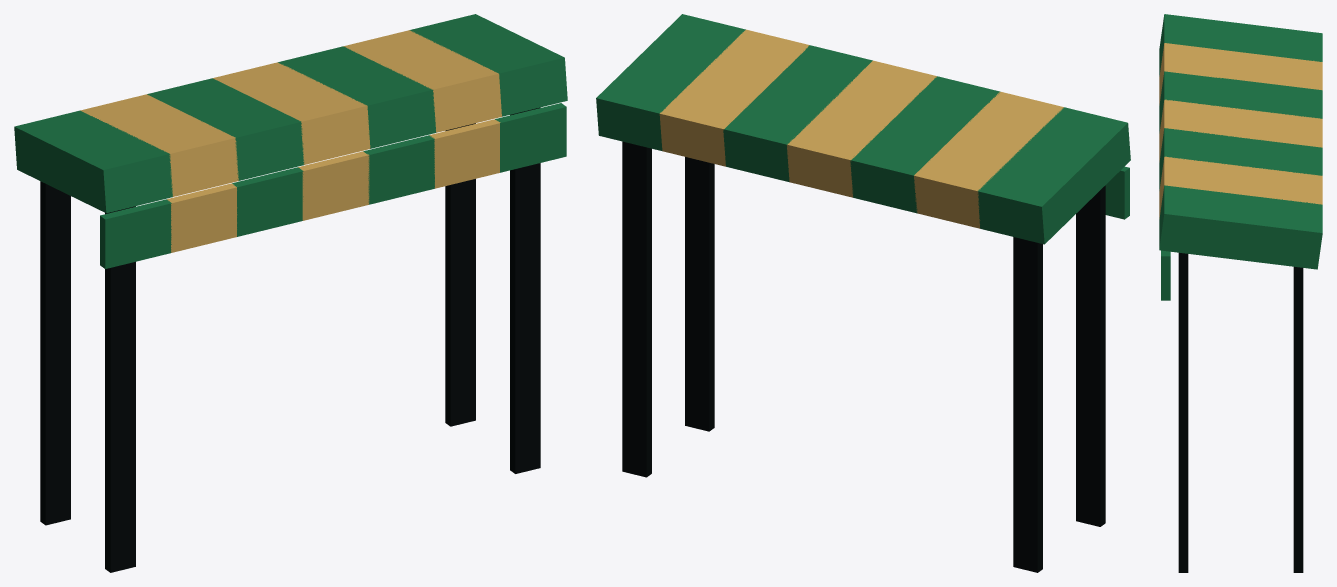
Rendered from street_awning.fbx.
3 renders of one model, left to right at view 1: azimuth 30°, elevation 25°; view 2: azimuth 150°, elevation 25°; view 3: azimuth 270°, elevation 25°, orthographic. The views are drawn at different scales.
Parts seen in each view (by area): view 1: Part_-1, Part_0, Part_5, Part_3, Part_4, Part_2, Part_1; view 2: Part_-1, Part_0, Part_5, Part_1, Part_2, Part_3, Part_4; view 3: Part_5, Part_0, Part_-1, Part_4, Part_2, Part_1, Part_3.
Part boxes in pixels (left/top/right/bottom): Part_-1: left=40, top=107, right=566, bottom=572; Part_0: left=14, top=94, right=237, bottom=267; Part_5: left=409, top=14, right=567, bottom=171; Part_3: left=278, top=46, right=435, bottom=203; Part_4: left=343, top=30, right=501, bottom=188; Part_2: left=212, top=62, right=369, bottom=219; Part_1: left=147, top=78, right=303, bottom=236; Part_-1: left=622, top=141, right=1129, bottom=572; Part_0: left=914, top=107, right=1130, bottom=244; Part_5: left=596, top=14, right=809, bottom=166; Part_1: left=851, top=92, right=1063, bottom=228; Part_2: left=787, top=76, right=1000, bottom=213; Part_3: left=724, top=60, right=936, bottom=197; Part_4: left=660, top=45, right=872, bottom=182; Part_5: left=1159, top=157, right=1322, bottom=299; Part_0: left=1159, top=14, right=1322, bottom=103; Part_-1: left=1161, top=252, right=1303, bottom=572; Part_4: left=1159, top=128, right=1322, bottom=217; Part_2: left=1159, top=71, right=1322, bottom=160; Part_1: left=1159, top=43, right=1322, bottom=132; Part_3: left=1159, top=100, right=1322, bottom=189.
Bounding box in the file's own units: 5.84 × 4.99 × 2.02.
